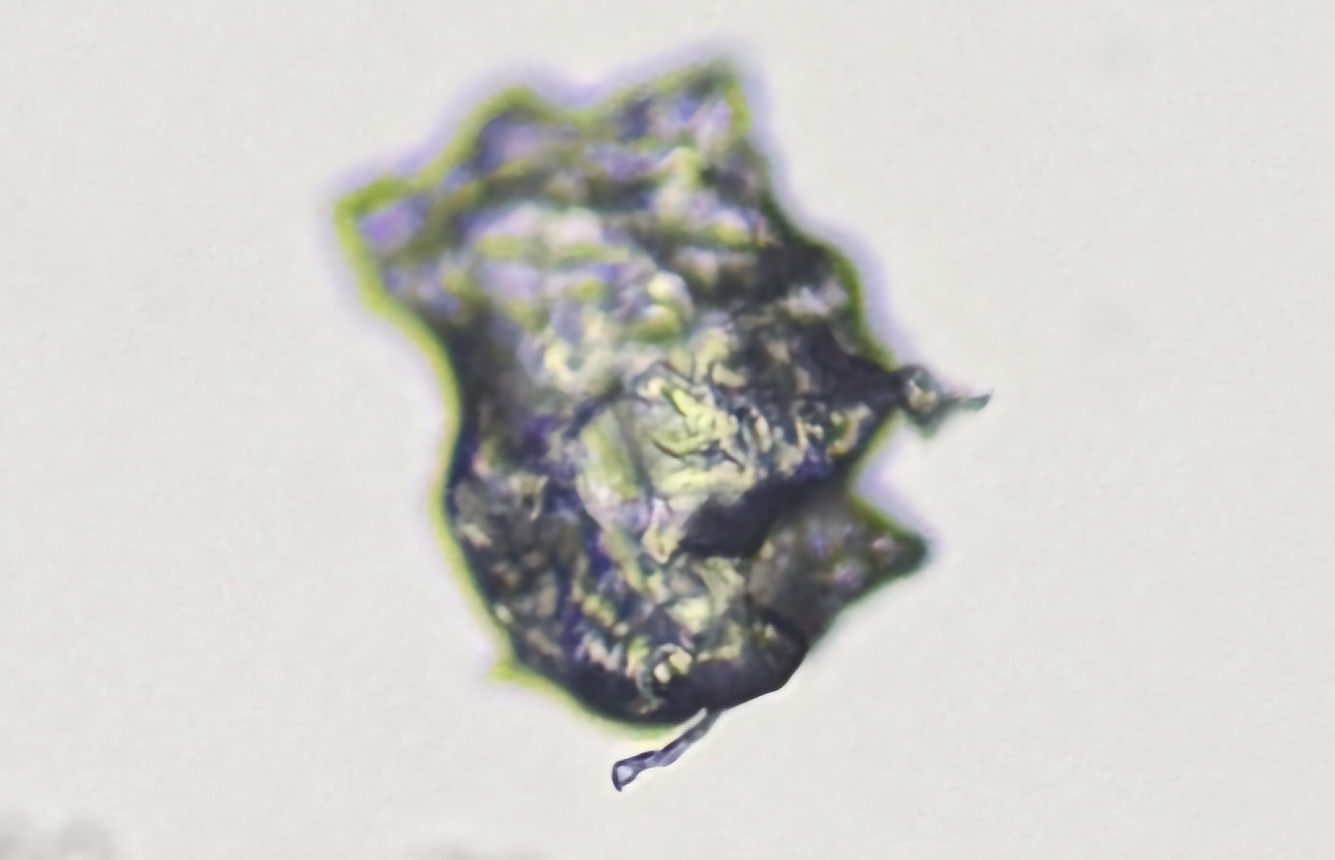microplastic: (337, 59, 994, 795)
